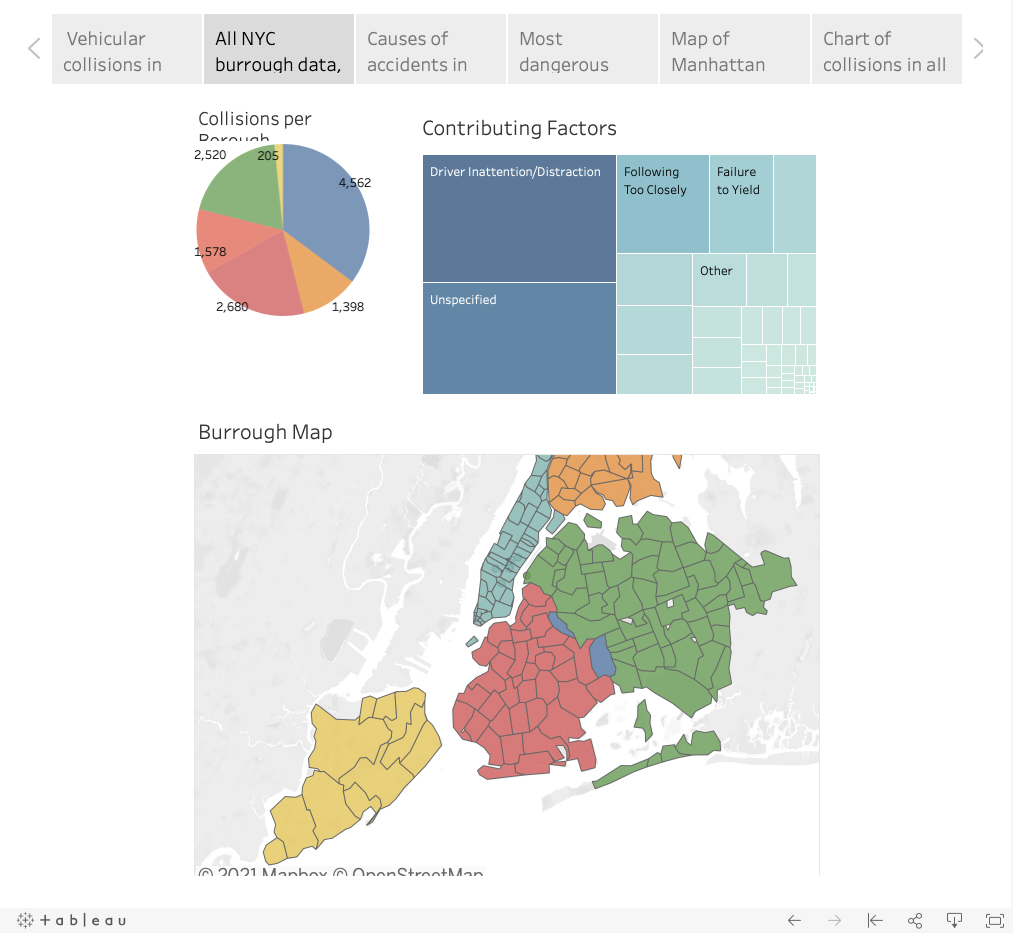

The page's visual inventory and layout, read from the dashboard file:
{"tool":"tableau","page":{"name":"Dashboard 2","canvas":[1000,800],"ordinal":1},"visuals":[{"type":"worksheet","box":[0,0,1000,800]},{"type":"worksheet","title":"Sheet 6","mark":"Automatic","rows":["Region"],"cols":["Total Cost"],"box":[8,8,984,258]},{"type":"worksheet","param":"horz","box":[8,266,984,526]},{"type":"worksheet","box":[8,266,565,526]},{"type":"worksheet","title":"Sheet 4","mark":"Automatic","box":[8,266,565,475.7]},{"type":"worksheet","param":"vert","box":[573,266,419,526]},{"type":"worksheet","title":"Sheet 5","mark":"Automatic","cols":["Region"],"box":[573,266,419,526]},{"type":"worksheet","title":"Sheet 4","mark":"Automatic","param":"[federated.0fnnwvd0xu36671bv7qcp1f0rr51].[sum:Total Profit:qk]","box":[8,741.7,565,50.3]}]}

Visuals, with their boxes on the page's 1000x800 design canvas (x1, y1, x2, y2). These are canvas units, not pixel positions in the 1016x936 screenshot, which may show the page scaled, cropped or inside an application window:
worksheet: (x1=0, y1=0, x2=1000, y2=800)
"Sheet 6" worksheet: (x1=8, y1=8, x2=992, y2=266)
worksheet: (x1=8, y1=266, x2=992, y2=792)
worksheet: (x1=8, y1=266, x2=573, y2=792)
"Sheet 4" worksheet: (x1=8, y1=266, x2=573, y2=742)
worksheet: (x1=573, y1=266, x2=992, y2=792)
"Sheet 5" worksheet: (x1=573, y1=266, x2=992, y2=792)
"Sheet 4" worksheet: (x1=8, y1=742, x2=573, y2=792)
